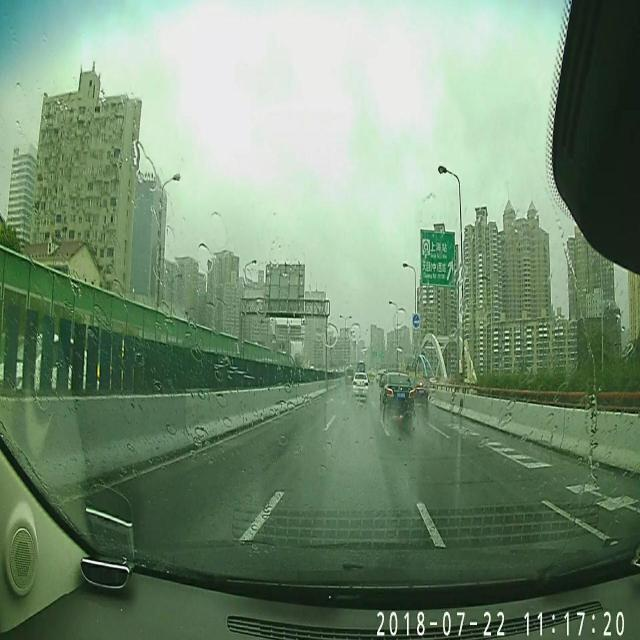car: (380, 370, 414, 420), (414, 377, 431, 405), (352, 371, 369, 398)
